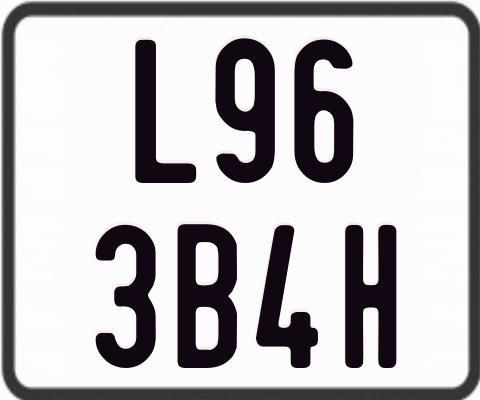3: (96, 224, 157, 372)
4: (256, 224, 324, 371)
6: (294, 37, 357, 182)
9: (212, 37, 278, 186)
B: (176, 222, 235, 370)
H: (345, 223, 396, 370)
L: (132, 38, 199, 187)
